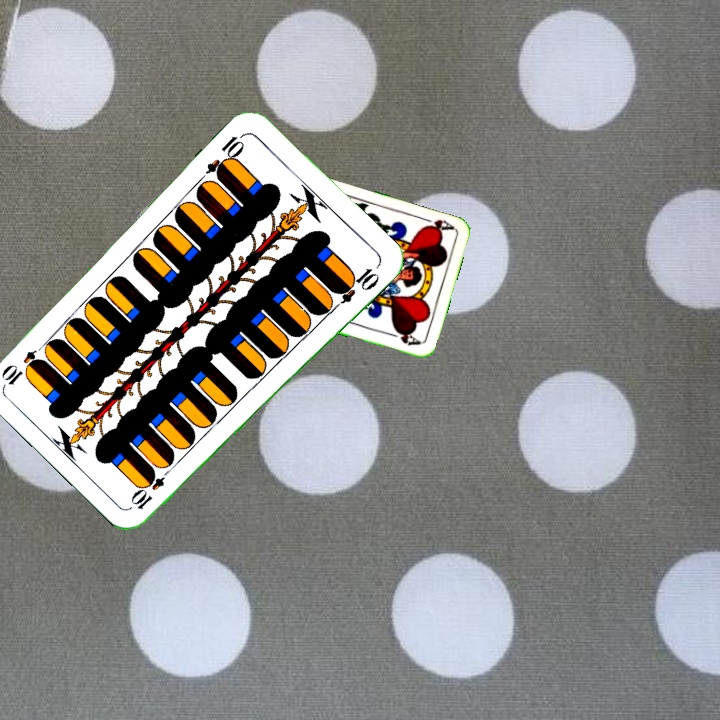E10: (127, 461, 175, 512), (202, 129, 248, 181)
HA: (416, 212, 456, 234)
